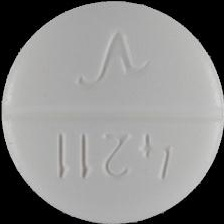43063-419: (0, 0, 224, 224)
